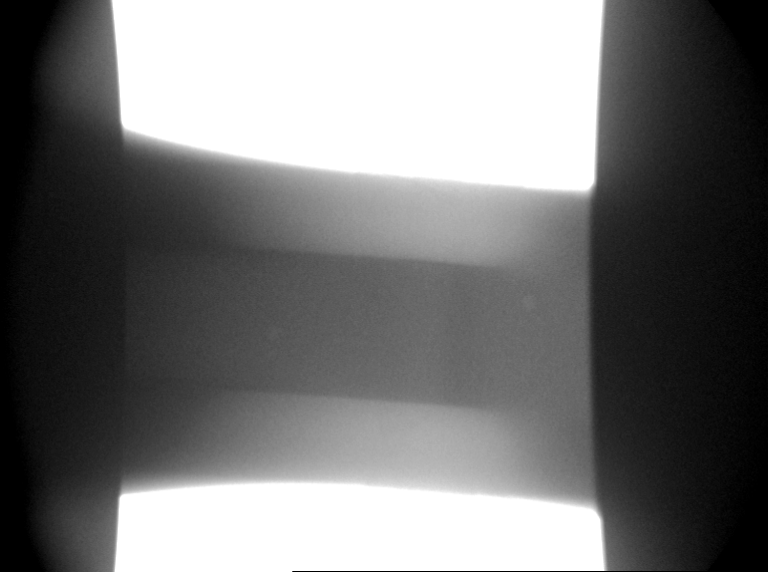defect: (265, 323, 285, 343)
